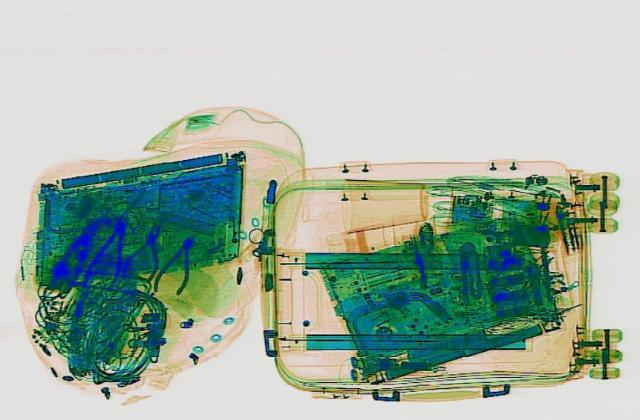Pliers: (76, 210, 142, 291), (148, 231, 206, 295), (120, 218, 172, 281)
